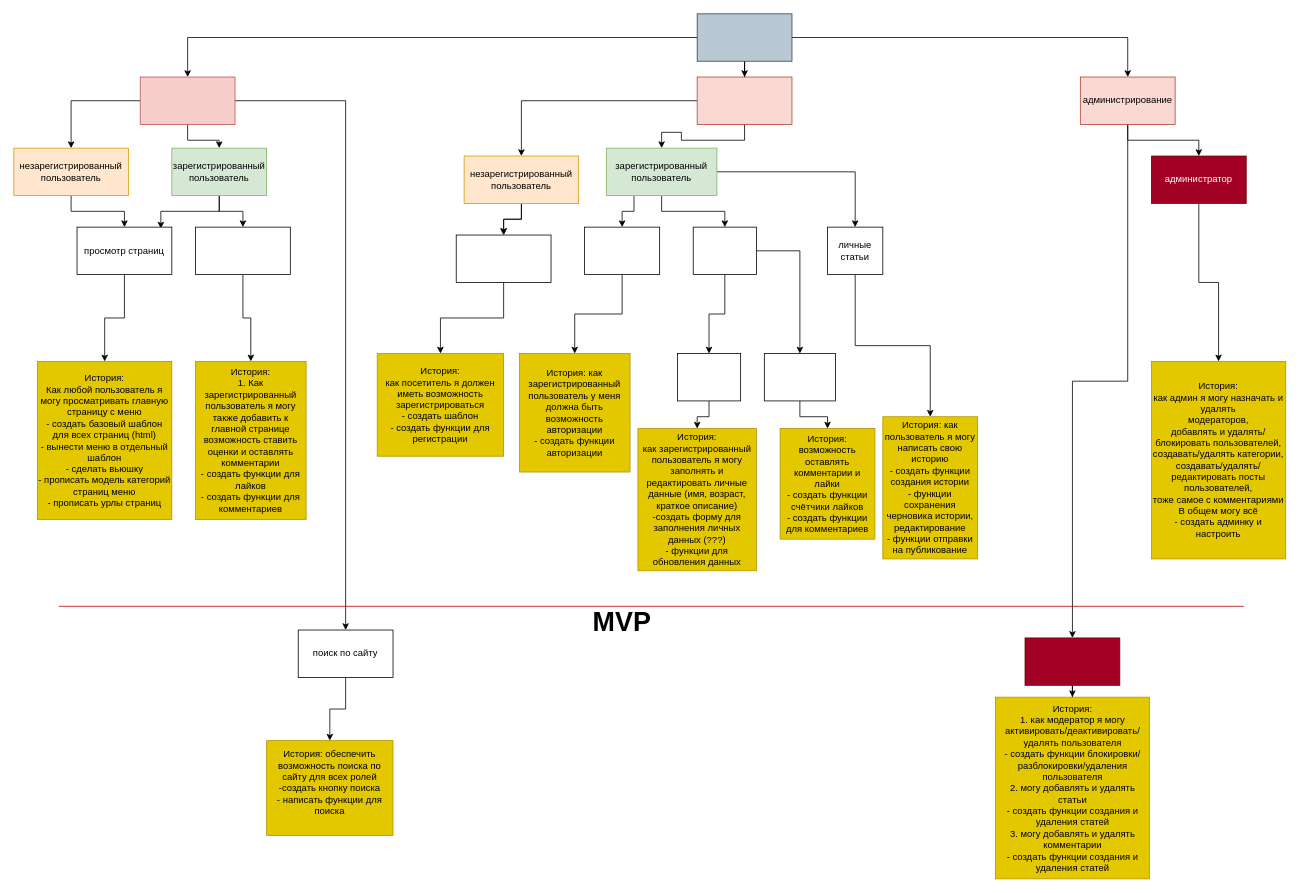
This 1300x893 diagram has some shape labels left out. The shapes that lost their labels are listed below. From the top down, each one's box as (x1, y1, x2, y2) in pixels, then its label:
(696, 13, 792, 61): Хабр
(139, 76, 235, 124): Страницы сайта
(696, 76, 792, 124): личный кабинет
(195, 226, 290, 275): возможность оценки (лайков), комментарии
(455, 234, 551, 282): регистрация
(584, 226, 660, 275): авторизация
(692, 226, 756, 275): профиль
(677, 353, 741, 401): личные данные
(764, 353, 835, 401): статистика активностей на сайте
(1024, 637, 1120, 685): модератор
